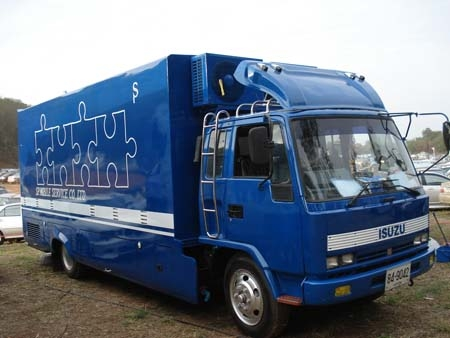truck: (14, 52, 438, 335)
